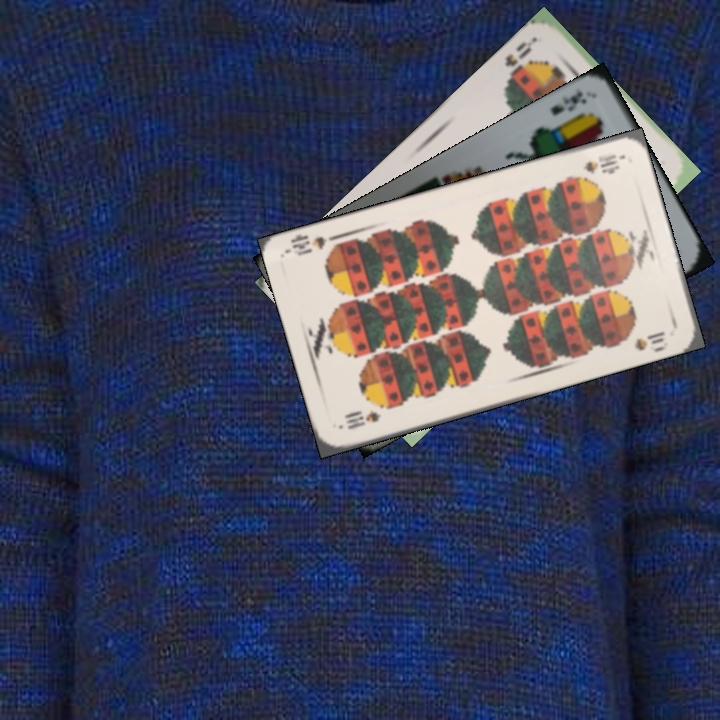EK: (546, 86, 589, 119)
S10: (579, 150, 624, 176), (341, 406, 384, 432)
SO: (500, 33, 539, 88)
